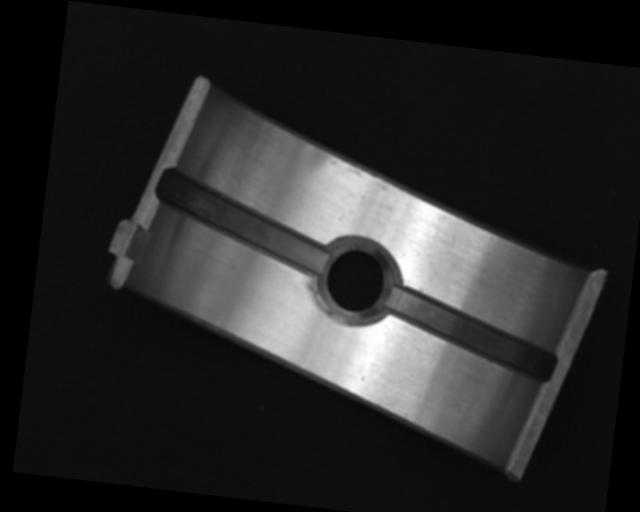gap: (154, 169, 334, 278), (382, 285, 565, 383)
hole: (310, 232, 403, 331)
